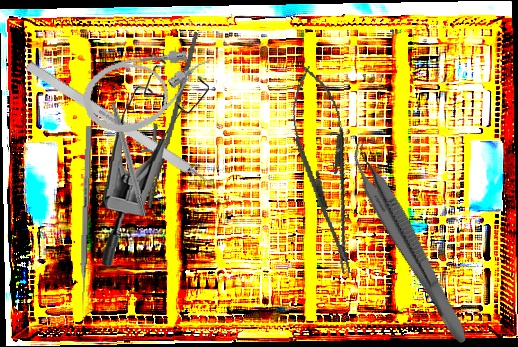Cannula: (75, 38, 223, 142)
Hook Surgical: (25, 60, 230, 199), (105, 85, 149, 217)
Needle Holder: (280, 61, 371, 279), (132, 26, 200, 212)
Pusher: (78, 125, 93, 316)
Speculum: (99, 51, 211, 272)
Tissue Forceps: (338, 137, 482, 347)
